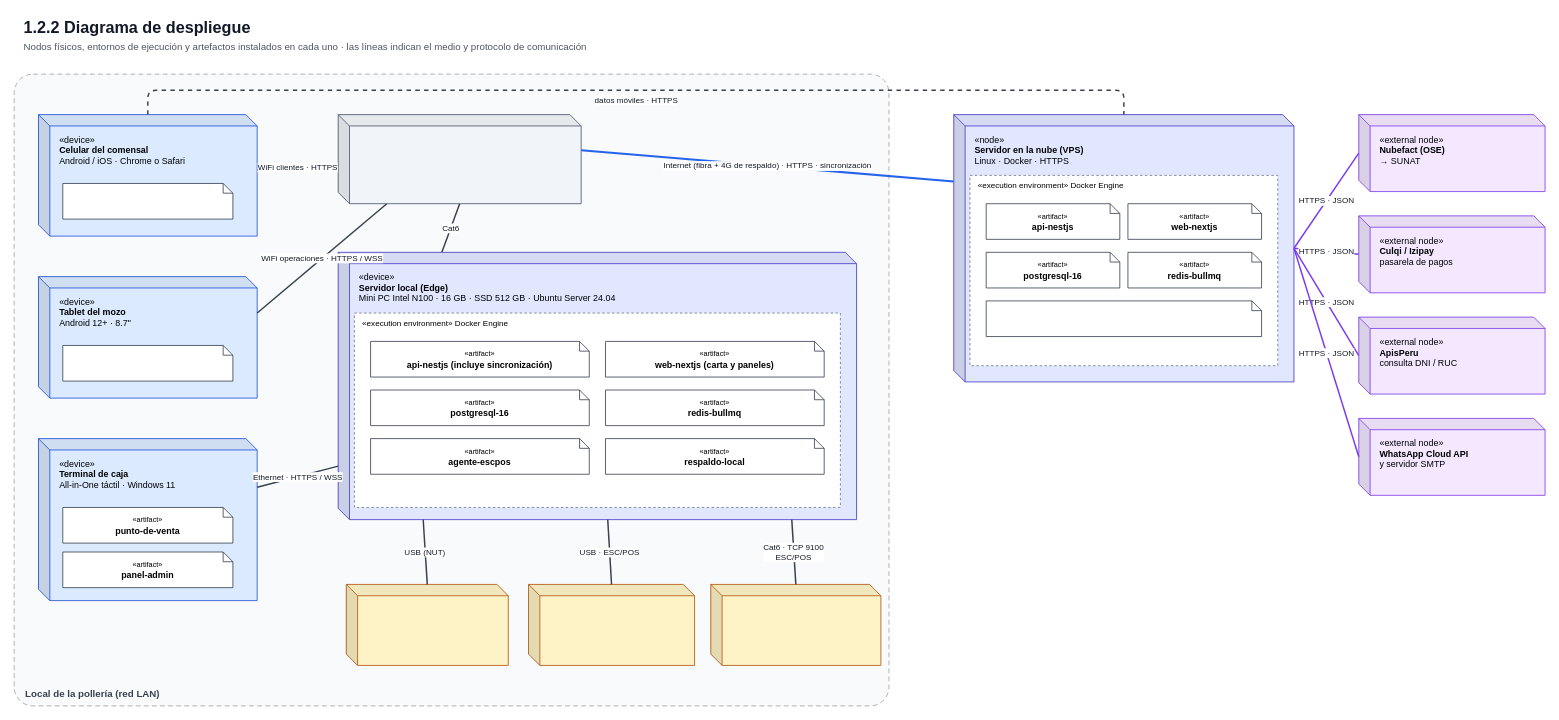
Image size: 1559x720. Some labels were removed from this diagram. The shapes that lost their labels are listed below. From the top down, each one's centre as x and y in pixels, then its label:
At pixel 459 159: "«device» Router Dual-WAN + AP WiFi 6 VLAN Clientes · VLAN Operaciones".
At pixel 147 201: "«artifact» carta-qr (PWA)".
At pixel 1123 318: "«artifact» copias diarias (30 días)".
At pixel 147 363: "«artifact» app-mozo".
At pixel 426 624: "«device» UPS 1200 VA 30–45 min de respaldo".
At pixel 611 624: "«device» Ticketera de caja + gaveta Térmica 80 mm · gaveta RJ11".
At pixel 795 624: "«device» Ticketera del pollero Térmica 80 mm · buzzer 85 dB".
